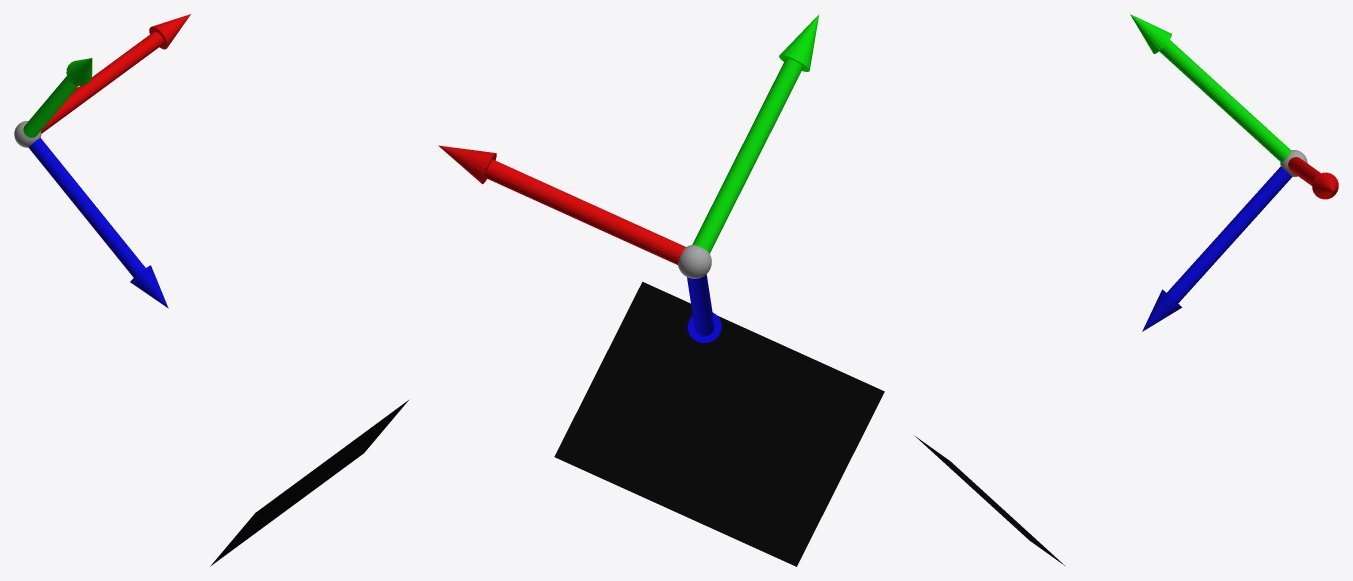
The picture shows the model from 3 angles, left to right: view 1: azimuth 30°, elevation 25°; view 2: azimuth 150°, elevation 25°; view 3: azimuth 270°, elevation 25°; orthographic projection. The views are drawn at different scales.
Size of the model in its own units: 0.1594 by 0.2995 by 0.2342.
